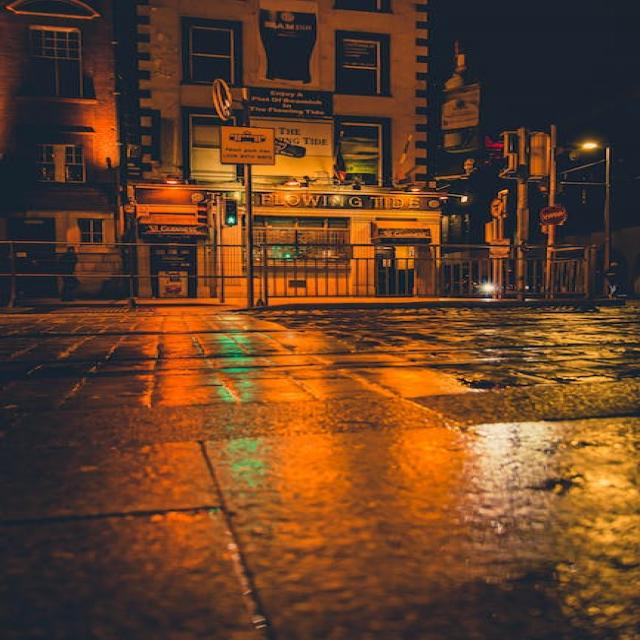no entry: (539, 203, 568, 225)
